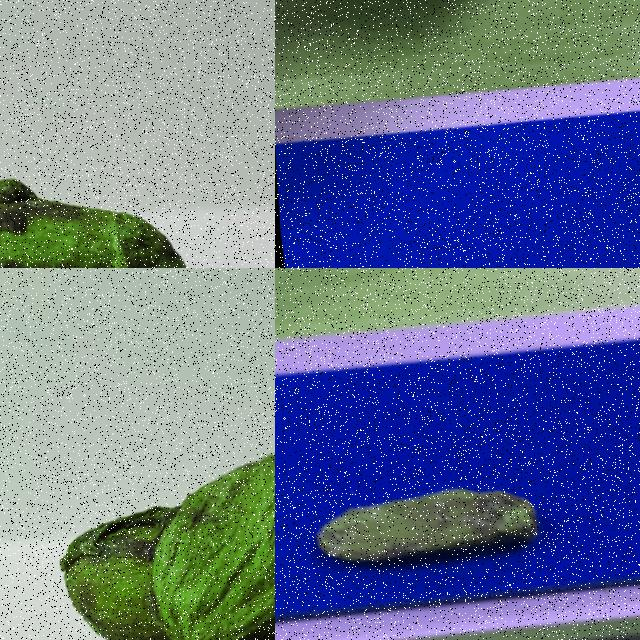Agglomerated_cocoabeans: (0, 407, 274, 639), (0, 113, 274, 267)
Flat_cocoabeans: (275, 436, 611, 630)
